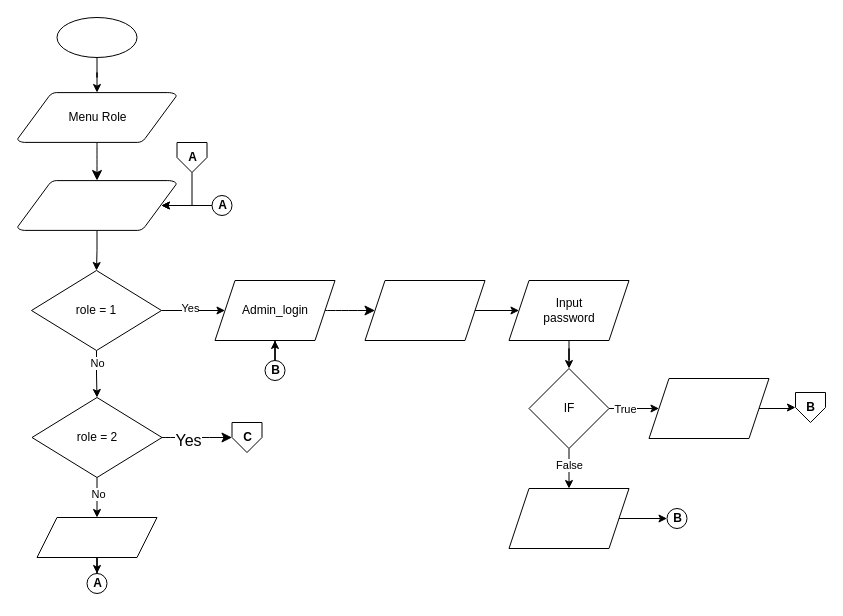
The diagram is 843 pixels wide and 616 high, and some of its shapes have lost their labels. The box of each missing label's shape, as (x1, y1, x2, y2) in pixels:
Admin Login Berhasil: (648, 378, 769, 438)
Input Role: (16, 180, 176, 230)
Input username: (364, 280, 485, 340)
Jawaban tidak sesuai: (36, 516, 157, 558)
Start: (56, 16, 137, 58)
Username dan password tidak valid: (508, 488, 629, 548)
